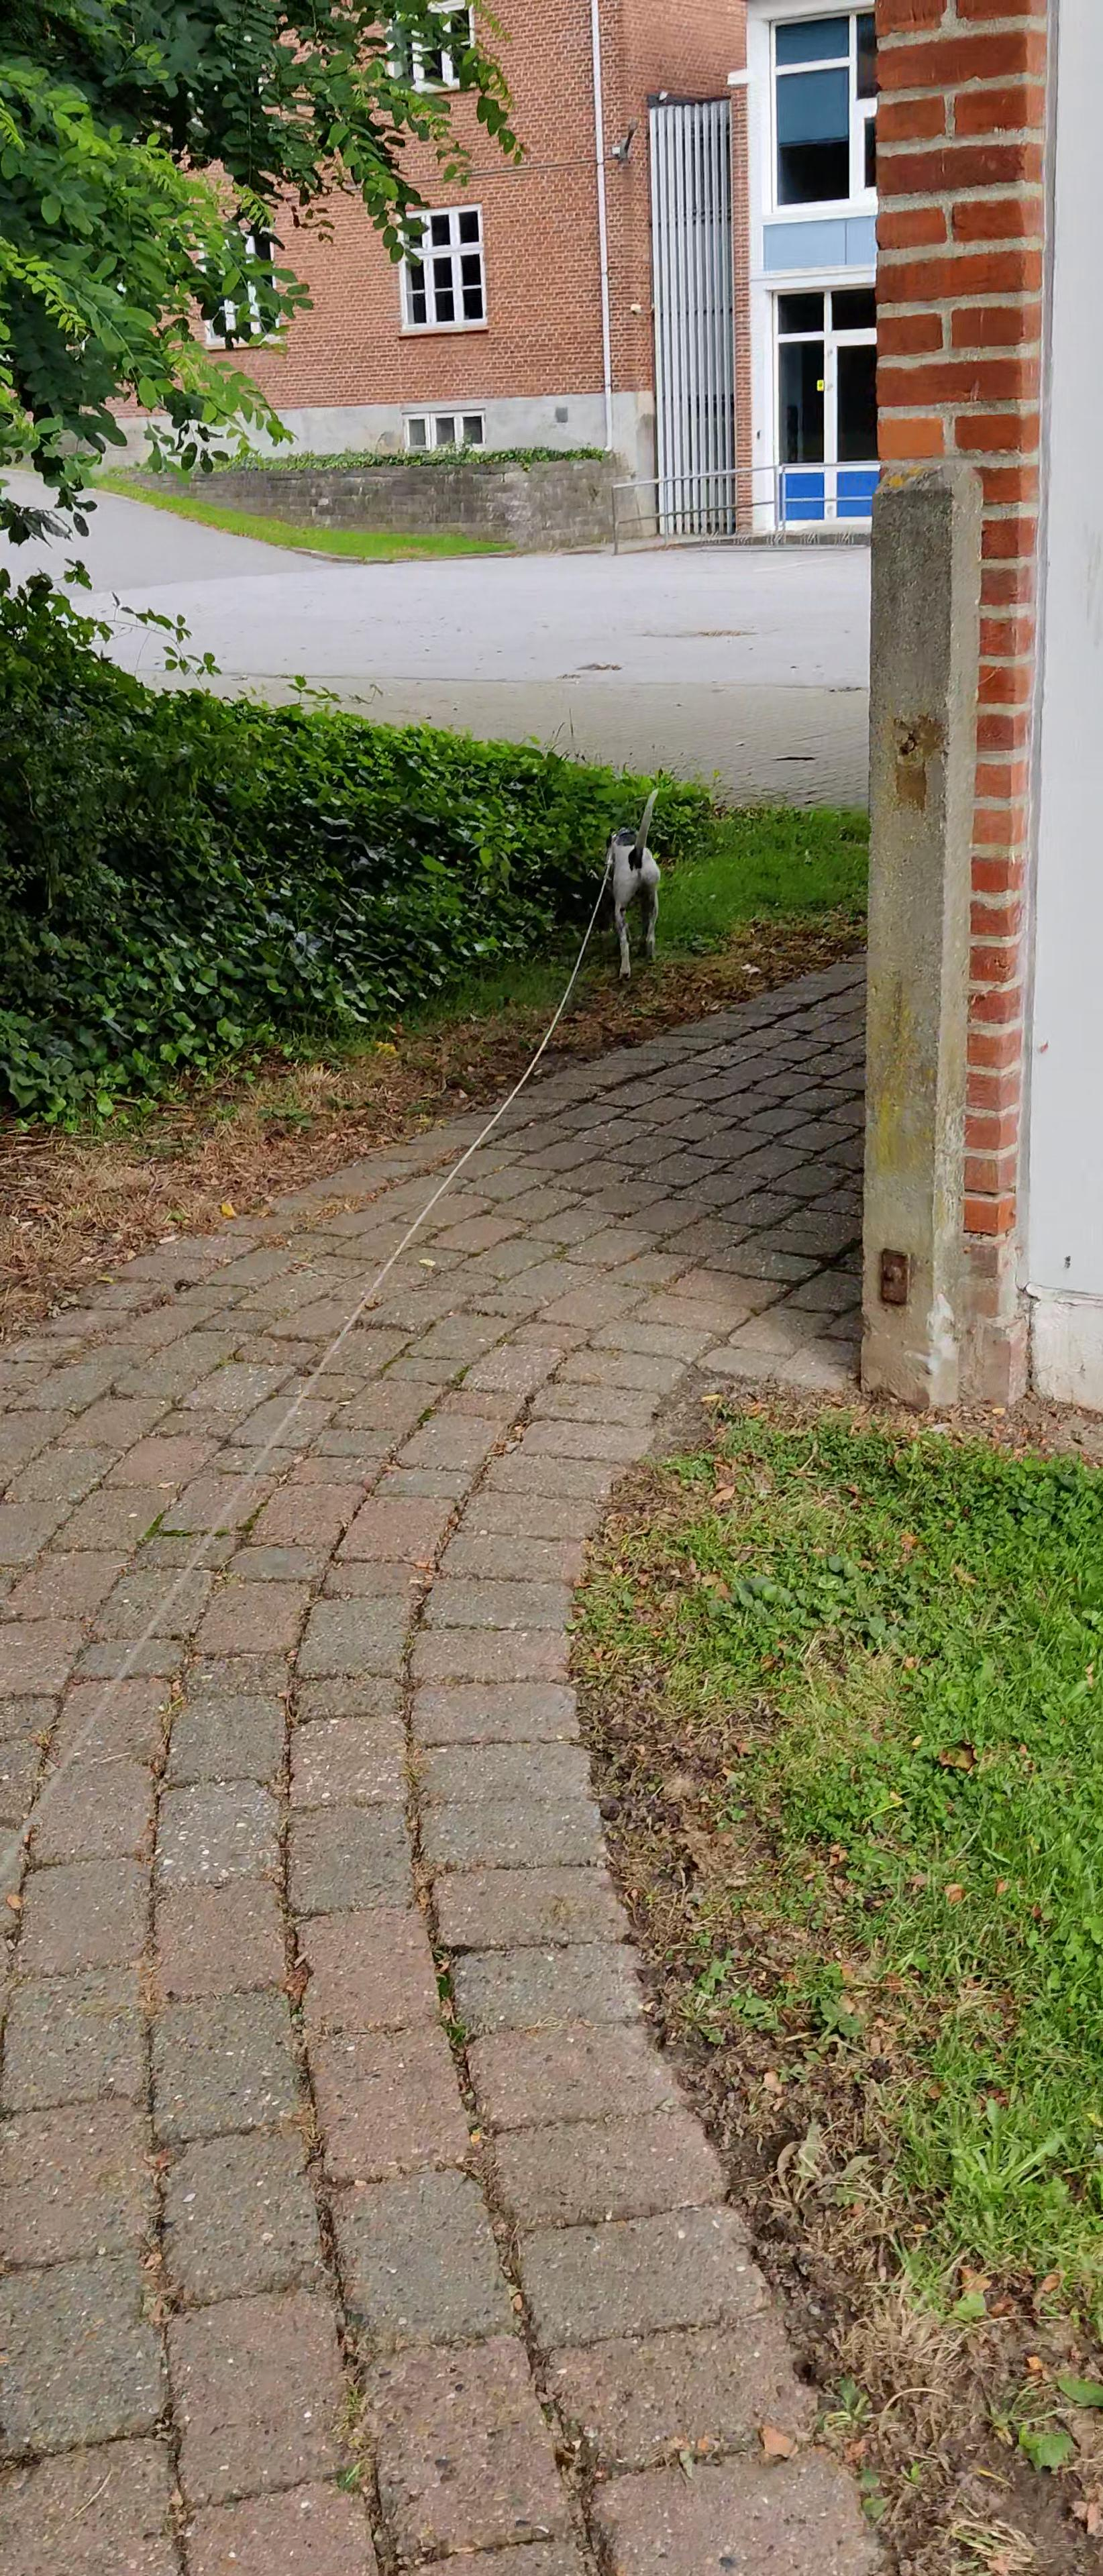Dog: (592, 784, 677, 989)
